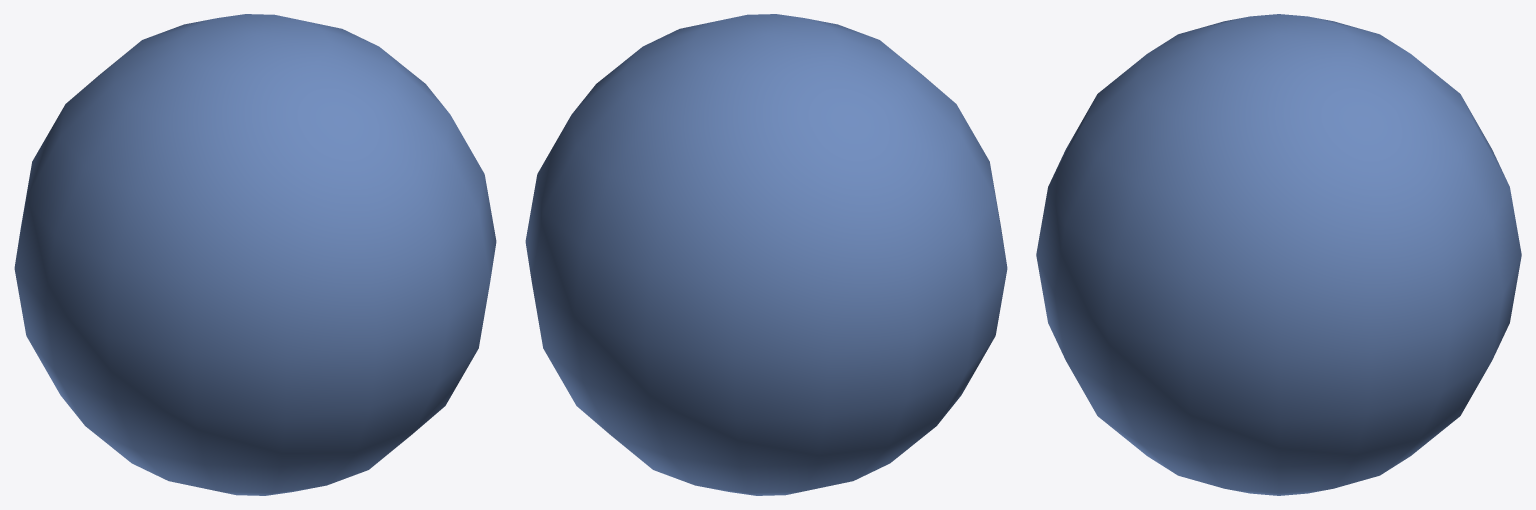
File: earth-network-globe-lod2.glb
3 views of the same model, side by side, from view 1: azimuth 30°, elevation 25°; view 2: azimuth 150°, elevation 25°; view 3: azimuth 270°, elevation 25° (orthographic).
Visible parts, largest first — view 1: Earth_Network_Globe_LOD2_Node; view 2: Earth_Network_Globe_LOD2_Node; view 3: Earth_Network_Globe_LOD2_Node.
Boxes of the visible parts, x1,y1,x2,y2 form: Earth_Network_Globe_LOD2_Node: (14, 14, 496, 495); Earth_Network_Globe_LOD2_Node: (525, 14, 1007, 495); Earth_Network_Globe_LOD2_Node: (1036, 14, 1521, 495).
Size of the model in its own units: 6 by 6 by 6.
